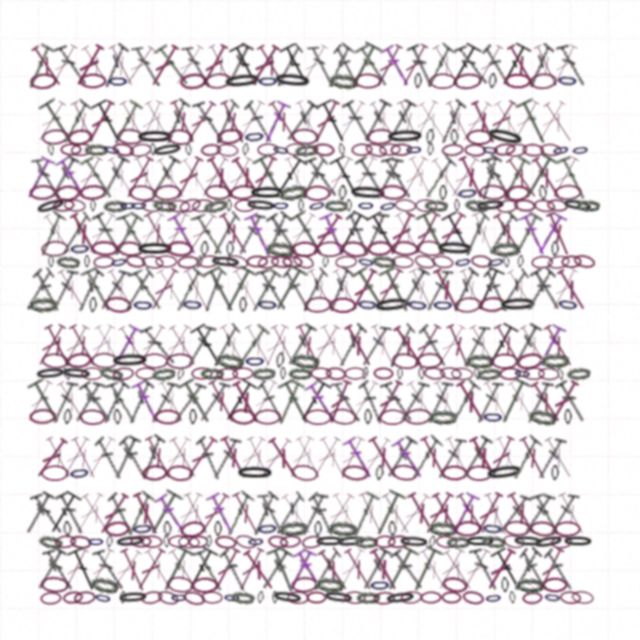chain: (484, 125, 526, 149), (484, 462, 525, 483), (222, 71, 263, 91), (372, 295, 413, 315), (272, 71, 313, 90), (34, 195, 68, 217), (348, 184, 388, 202), (385, 128, 425, 145), (435, 240, 475, 257), (498, 296, 538, 313), (110, 352, 150, 369), (277, 182, 308, 203), (135, 129, 175, 145), (248, 185, 288, 201), (135, 241, 175, 257), (235, 465, 275, 481), (214, 351, 245, 371), (527, 407, 558, 427), (89, 575, 120, 595), (151, 141, 184, 159), (532, 533, 565, 551), (340, 239, 369, 259), (515, 351, 544, 371), (290, 463, 319, 483), (278, 519, 308, 538), (561, 197, 594, 214), (271, 589, 304, 606), (322, 589, 355, 606), (66, 127, 94, 147), (179, 519, 207, 539), (441, 575, 469, 595), (328, 72, 358, 90), (265, 240, 295, 258), (490, 240, 520, 258), (290, 352, 320, 370), (216, 127, 244, 146), (416, 239, 444, 258), (104, 295, 132, 314), (329, 407, 357, 426), (391, 463, 419, 482), (166, 575, 194, 594), (209, 254, 242, 270), (384, 590, 417, 606), (453, 72, 482, 90), (128, 184, 157, 202), (66, 351, 93, 370), (29, 72, 57, 90), (179, 72, 207, 90), (204, 72, 232, 90), (529, 72, 557, 90), (41, 128, 69, 146), (166, 128, 194, 146), (116, 240, 144, 258), (454, 296, 482, 314), (41, 352, 69, 370), (391, 352, 419, 370), (166, 464, 194, 482), (341, 464, 369, 482), (529, 520, 557, 538), (474, 198, 507, 213), (34, 366, 67, 381), (60, 366, 93, 381), (114, 534, 147, 549), (28, 296, 57, 313), (540, 352, 569, 369), (328, 520, 357, 537), (428, 520, 457, 537), (40, 576, 69, 593), (315, 576, 344, 593), (54, 184, 81, 202), (504, 184, 531, 202), (104, 520, 131, 538), (245, 198, 277, 213), (335, 534, 367, 549), (512, 534, 544, 549), (117, 590, 149, 605), (116, 128, 144, 145), (291, 128, 319, 145), (366, 128, 394, 145), (204, 184, 232, 201), (229, 184, 257, 201), (554, 184, 582, 201), (41, 240, 69, 257), (304, 296, 332, 313), (404, 408, 432, 425), (291, 252, 316, 271), (202, 197, 228, 215), (465, 353, 494, 369), (428, 409, 457, 425), (515, 577, 544, 593), (29, 184, 56, 201), (79, 184, 106, 201), (154, 184, 181, 201), (379, 184, 406, 201), (479, 184, 506, 201), (91, 240, 118, 257), (166, 240, 193, 257), (391, 240, 418, 257), (479, 296, 506, 313), (91, 352, 118, 369), (416, 352, 443, 369), (29, 408, 56, 425), (454, 520, 481, 537), (504, 520, 531, 537), (291, 576, 318, 593), (178, 196, 202, 215), (556, 295, 580, 314), (316, 241, 344, 257), (166, 353, 194, 369), (304, 409, 332, 425), (41, 465, 69, 481), (398, 535, 430, 549), (367, 240, 393, 257), (98, 365, 124, 382), (230, 408, 256, 425), (142, 464, 168, 481), (79, 73, 106, 89), (354, 73, 381, 89), (429, 73, 456, 89), (504, 73, 531, 89), (466, 129, 493, 145), (364, 141, 388, 159), (304, 185, 331, 201), (291, 241, 318, 257), (225, 253, 249, 271), (413, 253, 437, 271), (329, 297, 356, 313), (141, 353, 168, 369), (491, 353, 518, 369), (79, 409, 106, 425), (154, 409, 181, 425), (254, 409, 281, 425), (379, 409, 406, 425), (441, 465, 468, 481), (466, 465, 493, 481), (554, 521, 581, 537), (234, 533, 258, 551), (191, 577, 218, 593), (156, 589, 180, 607), (182, 589, 206, 607), (314, 535, 346, 548), (464, 535, 496, 548), (562, 535, 594, 548), (542, 577, 568, 593), (456, 184, 479, 202), (406, 296, 429, 314), (68, 464, 91, 482), (111, 141, 135, 158), (572, 253, 596, 270), (502, 533, 526, 550), (140, 589, 164, 606), (461, 589, 485, 606), (294, 142, 319, 158), (151, 366, 176, 382), (476, 366, 501, 382), (38, 534, 63, 550), (556, 72, 579, 89), (243, 128, 266, 145), (124, 253, 147, 270), (181, 296, 204, 313), (256, 296, 279, 313), (356, 296, 379, 313), (131, 520, 154, 537), (256, 520, 279, 537), (481, 520, 504, 537), (152, 198, 177, 213), (464, 198, 489, 213), (371, 254, 396, 269), (251, 366, 276, 381), (566, 366, 591, 381), (481, 534, 506, 549), (230, 590, 255, 605), (69, 240, 91, 257), (129, 142, 152, 158), (505, 142, 528, 158), (496, 198, 519, 214), (533, 198, 556, 214), (141, 254, 164, 270), (257, 254, 280, 270), (431, 254, 454, 270), (547, 254, 570, 270), (69, 534, 92, 550), (214, 534, 237, 550), (301, 534, 324, 550), (107, 73, 129, 89), (257, 73, 279, 89), (132, 297, 154, 313), (432, 297, 454, 313), (244, 353, 266, 369), (482, 409, 504, 425), (267, 534, 289, 550), (369, 577, 391, 593), (70, 142, 93, 157), (312, 142, 335, 157), (493, 142, 516, 157), (52, 198, 75, 213), (63, 198, 86, 213), (191, 198, 214, 213), (394, 198, 417, 213), (513, 198, 536, 213), (546, 198, 569, 213), (197, 254, 220, 269), (470, 254, 493, 269), (112, 366, 135, 381), (423, 366, 446, 381), (439, 366, 462, 381), (54, 534, 77, 549), (279, 534, 302, 549), (387, 534, 410, 549), (73, 590, 96, 605), (400, 590, 423, 605), (559, 590, 582, 605), (571, 590, 594, 605), (307, 197, 327, 214), (103, 199, 127, 213), (56, 255, 80, 269), (354, 535, 378, 549), (446, 535, 470, 549), (325, 366, 347, 381), (62, 590, 84, 605), (216, 143, 239, 157), (441, 143, 464, 157), (539, 143, 562, 157), (270, 255, 293, 269), (435, 535, 458, 549), (550, 535, 573, 549), (102, 142, 122, 158), (271, 142, 291, 158), (551, 142, 571, 158), (378, 198, 398, 214), (109, 254, 129, 270), (356, 254, 376, 270), (453, 254, 473, 270), (486, 254, 506, 270), (93, 590, 113, 606), (84, 143, 108, 156), (324, 199, 348, 212), (424, 199, 448, 212), (576, 199, 600, 212), (200, 367, 224, 380), (288, 367, 312, 380), (356, 591, 380, 604), (200, 143, 222, 157), (464, 143, 486, 157), (522, 143, 544, 157), (141, 199, 163, 213), (168, 199, 190, 213), (93, 255, 115, 269), (177, 255, 199, 269), (335, 255, 357, 269), (392, 255, 414, 269), (531, 255, 553, 269), (216, 367, 238, 381), (451, 367, 473, 381), (538, 367, 560, 381), (178, 535, 200, 549), (40, 591, 62, 605), (373, 591, 395, 605), (282, 255, 303, 269), (522, 591, 543, 605), (60, 143, 82, 156), (257, 143, 279, 156), (285, 143, 307, 156), (351, 143, 373, 156), (379, 143, 401, 156), (390, 143, 412, 156), (234, 199, 256, 212), (415, 199, 437, 212), (155, 255, 177, 268), (246, 255, 268, 268), (81, 367, 103, 380), (135, 367, 157, 380), (191, 367, 213, 380), (232, 367, 254, 380), (310, 367, 332, 380), (344, 367, 366, 380), (499, 367, 521, 380), (523, 367, 545, 380), (130, 535, 152, 548), (141, 535, 163, 548), (168, 535, 190, 548), (374, 535, 396, 548), (201, 591, 223, 604), (287, 591, 309, 604), (344, 591, 366, 604), (420, 591, 442, 604), (513, 366, 532, 381), (543, 590, 562, 605), (561, 255, 582, 268), (373, 367, 394, 380), (188, 535, 209, 548), (306, 591, 327, 604), (441, 591, 462, 604), (481, 143, 500, 157), (571, 143, 590, 157), (484, 591, 503, 605), (405, 143, 423, 156), (119, 199, 137, 212), (130, 199, 148, 212), (272, 199, 290, 212), (357, 199, 375, 212), (87, 535, 105, 548), (247, 535, 265, 548), (170, 591, 188, 604), (223, 591, 241, 604), (275, 352, 285, 369), (425, 129, 435, 145), (538, 185, 548, 201), (488, 73, 497, 89), (450, 129, 459, 145), (338, 185, 347, 201), (200, 241, 209, 257), (63, 409, 72, 425), (113, 409, 122, 425), (375, 465, 384, 481), (63, 521, 72, 537), (163, 521, 172, 537), (388, 521, 397, 537), (62, 367, 72, 381), (414, 73, 422, 89), (439, 185, 447, 201), (226, 241, 234, 257), (551, 241, 559, 257), (89, 297, 97, 313), (239, 297, 247, 313), (189, 409, 197, 425), (364, 409, 372, 425), (564, 409, 572, 425), (551, 465, 559, 481), (214, 521, 222, 537), (314, 521, 322, 537), (501, 577, 509, 593), (176, 367, 185, 381), (556, 367, 565, 381), (195, 255, 203, 269), (428, 535, 436, 549), (47, 143, 55, 156), (338, 143, 346, 156), (361, 367, 369, 380), (473, 367, 481, 380), (185, 143, 192, 156), (242, 143, 249, 156), (427, 143, 434, 156), (322, 255, 329, 268), (503, 255, 510, 268), (517, 255, 524, 268), (418, 367, 425, 380), (106, 535, 113, 548), (163, 535, 170, 548), (257, 591, 264, 604), (509, 591, 516, 604), (150, 143, 156, 156), (90, 199, 96, 212), (226, 199, 232, 212), (298, 199, 304, 212), (346, 199, 352, 212), (454, 199, 460, 212), (48, 255, 54, 268), (84, 255, 90, 268), (280, 367, 286, 380), (397, 367, 403, 380), (206, 535, 212, 548), (120, 591, 126, 604), (272, 591, 278, 604)
double: (38, 97, 79, 146), (351, 265, 392, 314), (269, 153, 309, 202), (519, 153, 559, 202), (289, 209, 329, 258), (269, 265, 309, 314), (177, 377, 217, 426), (219, 377, 259, 426), (144, 489, 184, 538), (202, 265, 241, 315), (219, 265, 258, 315), (277, 377, 316, 427), (252, 153, 291, 202), (189, 321, 228, 370), (27, 377, 66, 426), (294, 377, 333, 426), (44, 489, 83, 538), (381, 545, 420, 594), (489, 545, 528, 594), (345, 41, 383, 91), (515, 97, 553, 147), (415, 209, 453, 259), (378, 265, 416, 315), (157, 545, 195, 595), (152, 42, 192, 89), (419, 154, 459, 201), (231, 322, 271, 369), (278, 41, 316, 90), (445, 41, 483, 90), (495, 41, 533, 90), (90, 97, 128, 146), (328, 153, 366, 202), (332, 209, 370, 258), (365, 209, 403, 258), (440, 209, 478, 258), (482, 321, 520, 370), (182, 545, 220, 594), (495, 377, 532, 427), (370, 489, 407, 539), (407, 545, 444, 595), (127, 266, 166, 313), (406, 434, 445, 481), (353, 42, 391, 90), (78, 154, 116, 202), (107, 210, 145, 258), (245, 266, 283, 314), (445, 378, 483, 426), (228, 41, 265, 90), (315, 97, 352, 146), (256, 435, 295, 481), (245, 42, 283, 89), (265, 98, 303, 145), (228, 154, 266, 201), (182, 210, 220, 257), (182, 434, 220, 481), (453, 490, 491, 537), (57, 98, 94, 146), (107, 98, 144, 146), (115, 210, 152, 258), (190, 210, 227, 258), (507, 210, 544, 258), (170, 266, 207, 314), (103, 378, 140, 426), (507, 434, 544, 482), (66, 545, 102, 594), (389, 547, 428, 592), (266, 545, 301, 595), (28, 43, 66, 89), (120, 43, 158, 89), (282, 99, 320, 145), (457, 99, 495, 145), (503, 155, 541, 201), (265, 211, 303, 257), (307, 211, 345, 257), (78, 379, 116, 425), (32, 435, 70, 481), (278, 491, 316, 537), (395, 491, 433, 537), (107, 547, 145, 593), (240, 547, 278, 593), (170, 42, 207, 89), (32, 98, 69, 145), (82, 210, 119, 257), (432, 210, 469, 257), (153, 266, 190, 313), (165, 322, 202, 369), (307, 322, 344, 369), (432, 322, 469, 369), (403, 378, 440, 425), (453, 378, 490, 425), (365, 434, 402, 481), (378, 490, 415, 537), (420, 490, 457, 537), (132, 546, 169, 593), (165, 546, 202, 593), (482, 546, 519, 593), (321, 42, 357, 90), (421, 42, 457, 90), (496, 154, 532, 202), (66, 210, 102, 258), (121, 490, 157, 538), (191, 546, 227, 594), (471, 265, 506, 314), (78, 43, 115, 89), (182, 99, 219, 145), (415, 99, 452, 145), (540, 99, 577, 145), (153, 155, 190, 201), (178, 155, 215, 201), (428, 155, 465, 201), (40, 211, 77, 257), (490, 211, 527, 257), (503, 267, 540, 313), (115, 323, 152, 369), (390, 323, 427, 369), (303, 379, 340, 425), (528, 379, 565, 425), (265, 435, 302, 481), (357, 435, 394, 481), (382, 435, 419, 481), (390, 435, 427, 481), (78, 491, 115, 537), (95, 491, 132, 537), (153, 491, 190, 537), (195, 491, 232, 537), (320, 491, 357, 537), (257, 547, 294, 593), (315, 547, 352, 593), (440, 547, 477, 593), (71, 42, 107, 89), (146, 42, 182, 89), (254, 42, 290, 89), (429, 42, 465, 89), (333, 98, 369, 145), (366, 98, 402, 145), (483, 98, 519, 145), (491, 98, 527, 145), (533, 98, 569, 145), (54, 154, 90, 201), (104, 154, 140, 201), (146, 154, 182, 201), (196, 154, 232, 201), (354, 154, 390, 201), (446, 154, 482, 201), (529, 154, 565, 201), (546, 154, 582, 201), (216, 210, 252, 257), (283, 210, 319, 257), (54, 266, 90, 313), (529, 266, 565, 313), (554, 266, 590, 313), (33, 322, 69, 369), (91, 322, 127, 369), (133, 322, 169, 369), (158, 322, 194, 369), (408, 322, 444, 369), (516, 322, 552, 369), (541, 322, 577, 369), (54, 378, 90, 425), (346, 378, 382, 425), (504, 378, 540, 425), (546, 378, 582, 425), (554, 378, 590, 425), (158, 434, 194, 481), (166, 434, 202, 481), (233, 434, 269, 481), (308, 434, 344, 481), (341, 434, 377, 481), (458, 434, 494, 481), (466, 434, 502, 481), (541, 434, 577, 481), (71, 490, 107, 537), (404, 490, 440, 537), (504, 490, 540, 537), (141, 546, 177, 593), (291, 546, 327, 593), (341, 546, 377, 593), (366, 546, 402, 593), (416, 546, 452, 593), (21, 42, 56, 90), (371, 42, 406, 90), (171, 154, 206, 202), (221, 154, 256, 202), (79, 266, 114, 314), (346, 266, 381, 314), (41, 322, 76, 370), (58, 322, 93, 370), (229, 378, 264, 426), (271, 378, 306, 426), (516, 434, 551, 482), (221, 490, 256, 538), (346, 490, 381, 538), (529, 490, 564, 538), (46, 42, 81, 89), (296, 42, 331, 89), (379, 42, 414, 89), (471, 42, 506, 89), (504, 42, 539, 89), (83, 98, 118, 145), (116, 98, 151, 145), (141, 98, 176, 145), (233, 98, 268, 145), (341, 98, 376, 145), (383, 98, 418, 145), (508, 98, 543, 145), (46, 154, 81, 201), (121, 154, 156, 201), (204, 154, 239, 201), (91, 210, 126, 257), (133, 210, 168, 257), (141, 210, 176, 257), (166, 210, 201, 257), (391, 210, 426, 257), (533, 210, 568, 257), (104, 266, 139, 313), (146, 266, 181, 313), (229, 266, 264, 313), (304, 266, 339, 313), (329, 266, 364, 313), (371, 266, 406, 313), (396, 266, 431, 313), (66, 322, 101, 369), (83, 322, 118, 369), (216, 322, 251, 369), (241, 322, 276, 369), (283, 322, 318, 369), (341, 322, 376, 369), (466, 322, 501, 369), (491, 322, 526, 369), (371, 378, 406, 425), (58, 434, 93, 481), (83, 434, 118, 481), (316, 434, 351, 481), (21, 490, 56, 537), (54, 490, 89, 537), (171, 490, 206, 537), (229, 490, 264, 537), (329, 490, 364, 537), (429, 490, 464, 537), (471, 490, 506, 537), (33, 546, 68, 593), (358, 546, 393, 593), (433, 546, 468, 593), (458, 546, 493, 593), (547, 42, 581, 90), (555, 154, 589, 202), (34, 210, 68, 258), (384, 210, 418, 258), (405, 266, 439, 314), (67, 434, 101, 482), (334, 434, 368, 482), (140, 324, 177, 368), (454, 43, 490, 88), (483, 211, 519, 256), (521, 267, 557, 312), (105, 42, 139, 89), (197, 42, 231, 89), (397, 42, 431, 89), (309, 98, 343, 145), (359, 98, 393, 145), (442, 98, 476, 145), (22, 154, 56, 201), (72, 154, 106, 201), (97, 154, 131, 201), (322, 154, 356, 201), (397, 154, 431, 201), (409, 210, 443, 257), (180, 266, 214, 313), (430, 266, 464, 313), (547, 266, 581, 313), (109, 322, 143, 369), (267, 322, 301, 369), (317, 322, 351, 369), (509, 322, 543, 369), (22, 378, 56, 425), (155, 378, 189, 425), (205, 378, 239, 425), (247, 378, 281, 425), (480, 378, 514, 425), (42, 434, 76, 481), (142, 434, 176, 481), (217, 434, 251, 481), (292, 434, 326, 481), (417, 434, 451, 481), (180, 490, 214, 537), (447, 490, 481, 537), (555, 490, 589, 537), (209, 546, 243, 593), (284, 546, 318, 593), (334, 546, 368, 593), (530, 42, 563, 90), (67, 98, 100, 146), (134, 98, 167, 146), (217, 98, 250, 146), (259, 98, 292, 146), (517, 210, 550, 258), (259, 322, 292, 370), (171, 380, 207, 424), (480, 490, 513, 538), (496, 492, 532, 536), (117, 546, 150, 594), (54, 43, 89, 88), (304, 155, 339, 200), (58, 211, 93, 256), (121, 267, 156, 312), (333, 323, 368, 368), (521, 491, 556, 536), (508, 547, 543, 592), (192, 99, 226, 145), (97, 379, 131, 425), (380, 379, 414, 425), (30, 491, 64, 537), (92, 547, 126, 593), (205, 42, 238, 89), (222, 42, 255, 89), (167, 98, 200, 145), (292, 98, 325, 145), (409, 98, 442, 145), (130, 154, 163, 201), (247, 154, 280, 201), (347, 154, 380, 201), (405, 154, 438, 201), (455, 154, 488, 201), (367, 322, 400, 369), (534, 322, 567, 369), (130, 378, 163, 425), (430, 378, 463, 425), (284, 434, 317, 481), (442, 434, 475, 481), (492, 434, 525, 481), (130, 490, 163, 537), (205, 490, 238, 537), (355, 490, 388, 537), (59, 546, 92, 593), (84, 546, 117, 593), (234, 546, 267, 593), (534, 546, 567, 593), (496, 268, 531, 312), (406, 42, 438, 90), (393, 98, 425, 146), (468, 98, 500, 146), (281, 154, 313, 202), (160, 210, 192, 258), (243, 210, 275, 258), (468, 210, 500, 258), (456, 266, 488, 314), (293, 322, 325, 370), (443, 322, 475, 370), (110, 434, 142, 482), (243, 434, 275, 482), (485, 434, 517, 482), (480, 43, 514, 88), (242, 99, 276, 144), (22, 267, 56, 312), (97, 267, 131, 312), (280, 267, 314, 312), (197, 379, 231, 424), (272, 491, 306, 536), (309, 547, 343, 592), (517, 547, 551, 592), (542, 547, 576, 592), (72, 267, 105, 313), (447, 267, 480, 313), (247, 491, 280, 537), (42, 547, 75, 593), (318, 210, 349, 258), (543, 210, 574, 258), (272, 43, 305, 88), (297, 155, 330, 200), (209, 211, 242, 256), (184, 323, 217, 368), (209, 323, 242, 368), (359, 323, 392, 368), (417, 323, 450, 368), (72, 379, 105, 424), (255, 379, 288, 424), (330, 379, 363, 424), (397, 379, 430, 424), (117, 435, 150, 480), (547, 491, 580, 536), (98, 43, 130, 89), (131, 43, 163, 89), (181, 43, 213, 89), (331, 43, 363, 89), (523, 43, 555, 89), (435, 99, 467, 145), (31, 155, 63, 201), (381, 155, 413, 201), (481, 155, 513, 201), (260, 211, 292, 257), (31, 267, 63, 313), (256, 267, 288, 313), (298, 267, 330, 313), (385, 323, 417, 369), (123, 379, 155, 425), (93, 435, 125, 481), (210, 435, 242, 481), (435, 435, 467, 481), (535, 435, 567, 481), (556, 42, 587, 89), (160, 98, 191, 145), (323, 266, 354, 313), (324, 378, 354, 426), (373, 155, 404, 201), (235, 211, 266, 257), (423, 267, 454, 313), (481, 267, 512, 313), (460, 323, 491, 369), (148, 379, 179, 425), (106, 491, 137, 537), (218, 547, 249, 593), (136, 434, 166, 481), (469, 546, 499, 593), (307, 43, 337, 89), (211, 99, 241, 145), (461, 211, 491, 257), (49, 267, 79, 313), (49, 379, 79, 425), (424, 379, 454, 425), (474, 379, 504, 425), (524, 379, 554, 425), (194, 435, 224, 481), (257, 491, 287, 537), (299, 491, 329, 537), (307, 491, 337, 537), (344, 210, 373, 257), (361, 210, 390, 257), (357, 379, 386, 425), (475, 154, 503, 201), (200, 266, 228, 313)
